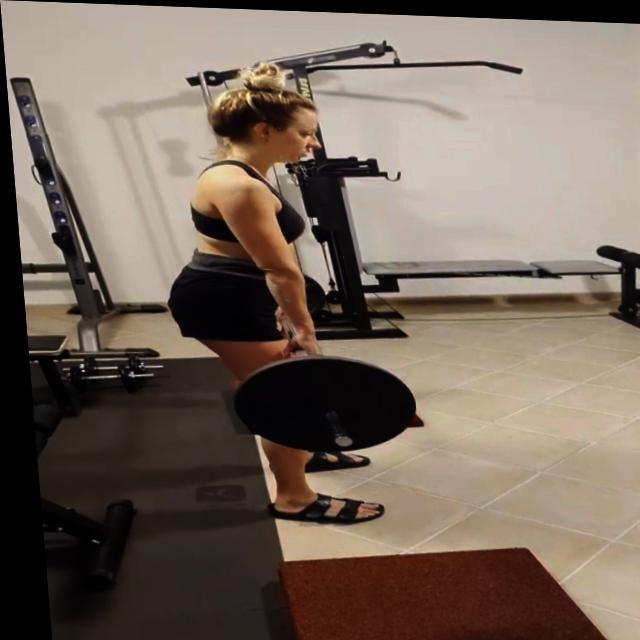barbell: (223, 347, 416, 456)
